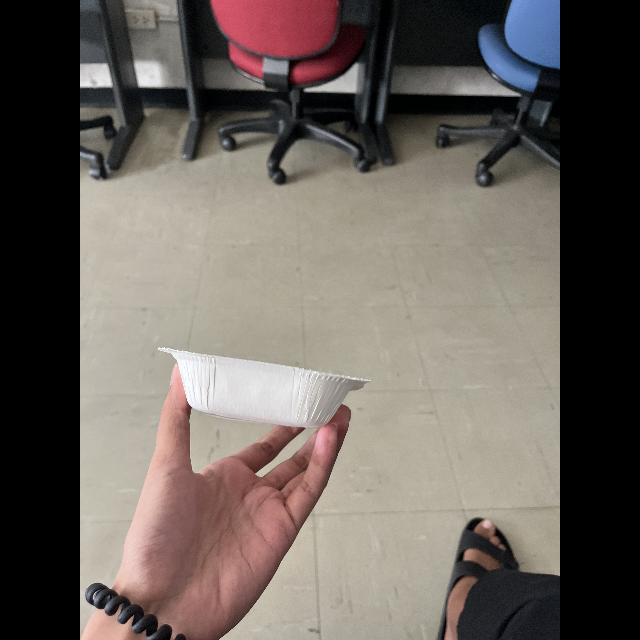cardboard_bowl: (150, 336, 368, 439)
